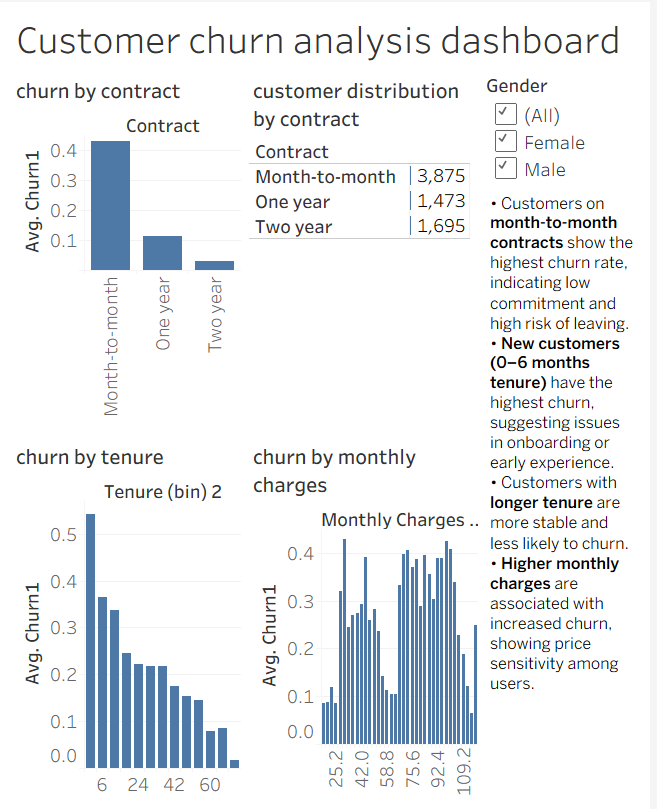

The dashboard page shown, as its layout file describes it:
{"tool":"tableau","page":{"name":"Customer churn analysis dashboard","canvas":[650,860],"ordinal":0},"visuals":[{"type":"worksheet","title":"Sheet 1","mark":"Automatic","rows":["churn"],"cols":["Contract"],"box":[8,8.5,237,421.5]},{"type":"worksheet","title":"Sheet 4","mark":"Bar","rows":["Contract"],"box":[245,8.5,237,421.5]},{"type":"filter","title":"Sheet 4","param":"[federated.0kj9ukk1yo4qil15h1jll1d0ek37].[none:gender:nk]","box":[482,8.5,160,128.9]},{"type":"worksheet","title":"Sheet 2","mark":"Bar","rows":["churn"],"cols":["Tenure (bin) 2"],"box":[8,430,237,421.5]},{"type":"worksheet","title":"Sheet 3","mark":"Automatic","rows":["churn"],"cols":["Monthly Charges (bin)"],"box":[245,430,237,421.5]}]}

Visuals, with their boxes on the page's 650x860 design canvas (x1, y1, x2, y2). These are canvas units, not pixel positions in the 657x809 screenshot, which may show the page scaled, cropped or inside an application window:
"Sheet 1" worksheet: bbox=[8, 8, 245, 430]
"Sheet 4" worksheet (Bar marks): bbox=[245, 8, 482, 430]
"Sheet 4" filter: bbox=[482, 8, 642, 137]
"Sheet 2" worksheet (Bar marks): bbox=[8, 430, 245, 852]
"Sheet 3" worksheet: bbox=[245, 430, 482, 852]
